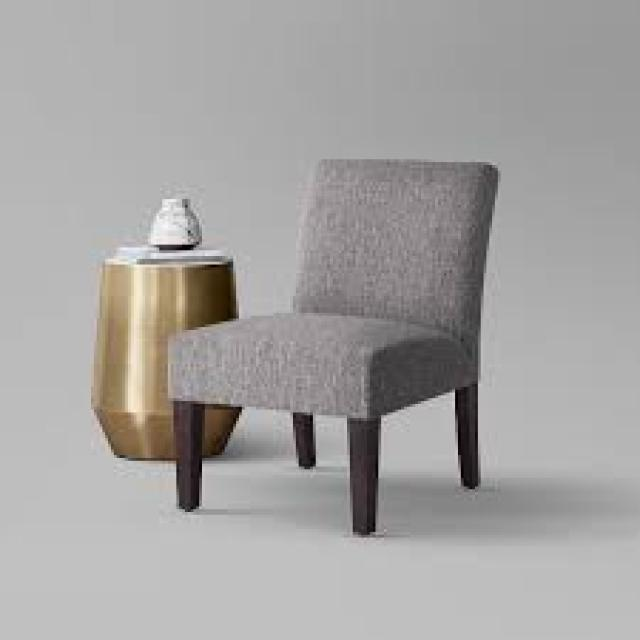chair: (134, 129, 560, 581)
